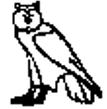Owl: (3, 2, 107, 109)
